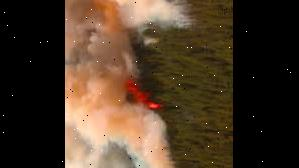fire: (120, 75, 166, 113)
